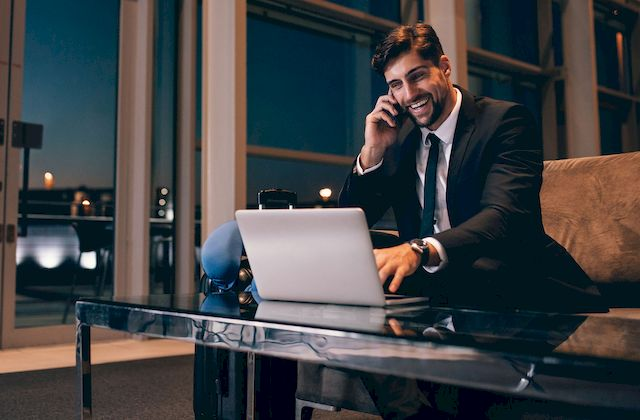phone: (376, 88, 407, 131)
talk: (362, 63, 443, 151)
